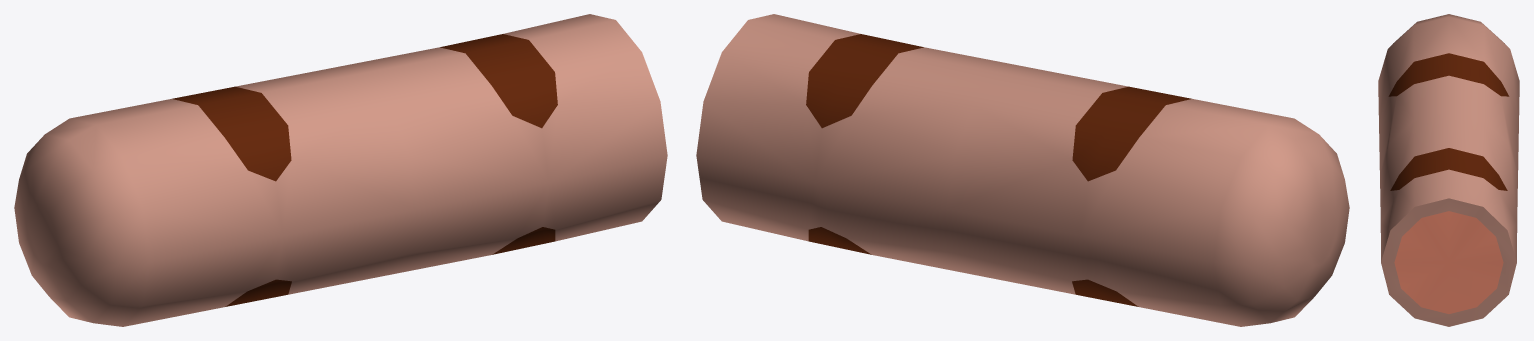
File: Sausage_gril_half.fbx
The picture shows the model from 3 angles, left to right: view 1: azimuth 30°, elevation 25°; view 2: azimuth 150°, elevation 25°; view 3: azimuth 270°, elevation 25°; orthographic projection. The views are drawn at different scales.
Parts seen in each view (by area): view 1: Sausage_gril_half; view 2: Sausage_gril_half; view 3: Sausage_gril_half.
Boxes of the visible parts, <box> form: Sausage_gril_half: <box>14,14,667,326</box>; Sausage_gril_half: <box>696,14,1349,326</box>; Sausage_gril_half: <box>1378,14,1519,326</box>.
Size of the model in its own units: 79.77 by 25.88 by 28.84.
